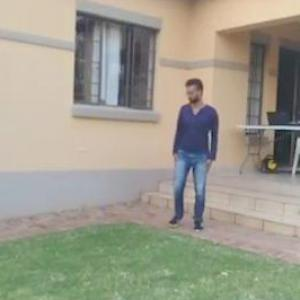follow: (168, 69, 218, 241)
